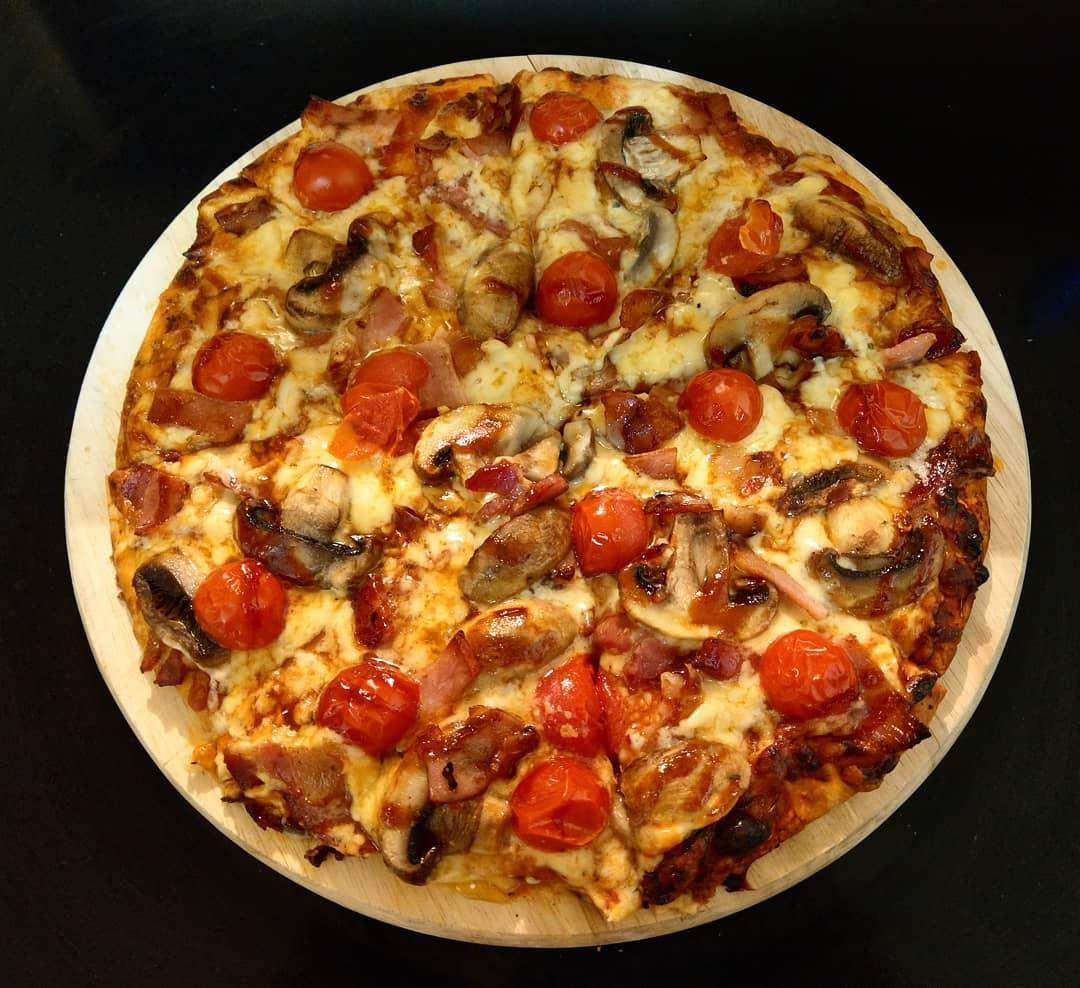Ham: (220, 740, 352, 828), (813, 697, 935, 760)
Mushroom: (232, 465, 381, 592), (651, 506, 775, 642), (601, 106, 691, 286), (382, 751, 487, 889), (804, 520, 948, 617), (431, 401, 595, 479), (458, 502, 567, 609), (284, 226, 400, 325), (701, 285, 833, 364), (458, 236, 537, 334), (126, 561, 189, 676)
Pizza: (110, 67, 991, 906)
Tomatoes: (508, 760, 615, 853), (342, 350, 430, 459), (318, 660, 422, 752), (534, 659, 632, 755), (761, 631, 861, 722), (190, 557, 287, 650), (567, 486, 650, 579), (839, 380, 929, 460), (192, 329, 277, 402), (536, 252, 618, 327), (707, 197, 781, 279), (293, 142, 376, 214), (684, 368, 763, 443), (532, 92, 600, 147)
